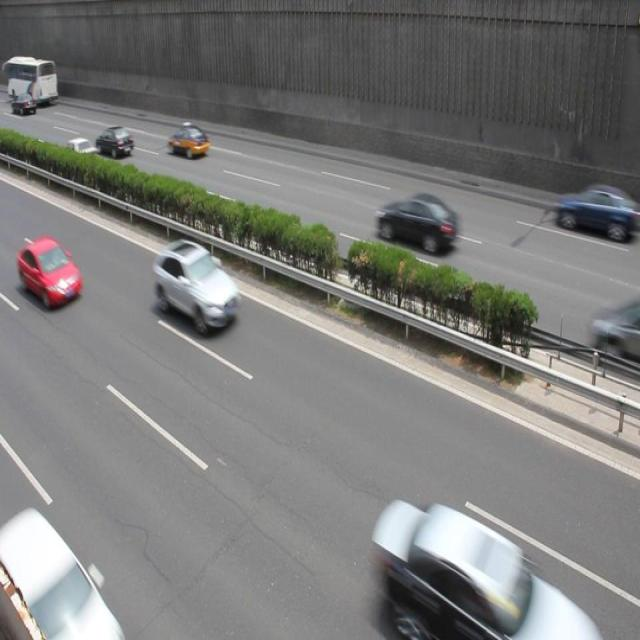car: (377, 498, 570, 640), (153, 238, 240, 334), (375, 188, 458, 255), (18, 234, 84, 306), (553, 186, 619, 236), (168, 121, 208, 159), (96, 126, 135, 160), (60, 136, 98, 166)
